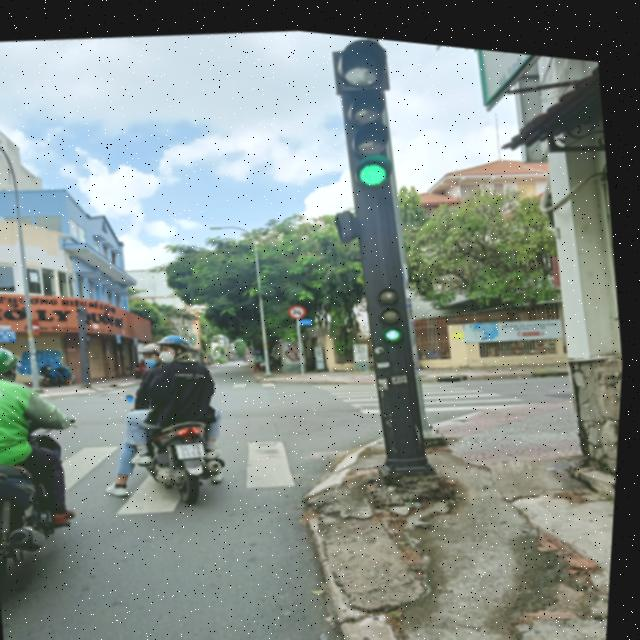Green: (334, 74, 405, 186), (365, 266, 415, 338)
